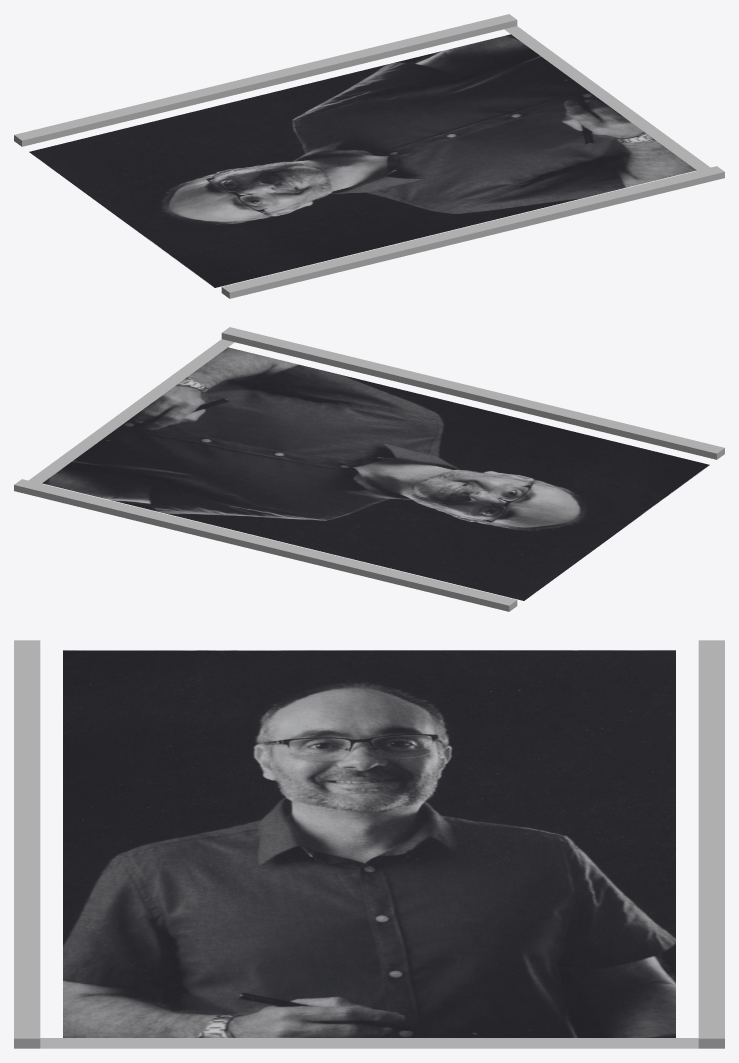
The model's file is BRUNA CINZA.fbx.
The picture shows the model from 3 angles, top to bottom: view 1: azimuth 30°, elevation 25°; view 2: azimuth 150°, elevation 25°; view 3: azimuth 270°, elevation 25°; orthographic projection. The views are drawn at different scales.
Parts seen in each view (by area): view 1: IMAGEM, QUADRO; view 2: IMAGEM, QUADRO; view 3: IMAGEM, QUADRO.
Part boxes in pixels (<box>): IMAGEM: <box>29,34,696,287</box>; QUADRO: <box>14,14,724,298</box>; IMAGEM: <box>42,347,709,600</box>; QUADRO: <box>14,327,724,611</box>; IMAGEM: <box>63,650,675,1037</box>; QUADRO: <box>14,640,724,1048</box>.
Size of the model in its own units: 3.07 by 0.0366 by 2.32.
2 materials, 1 textured.
